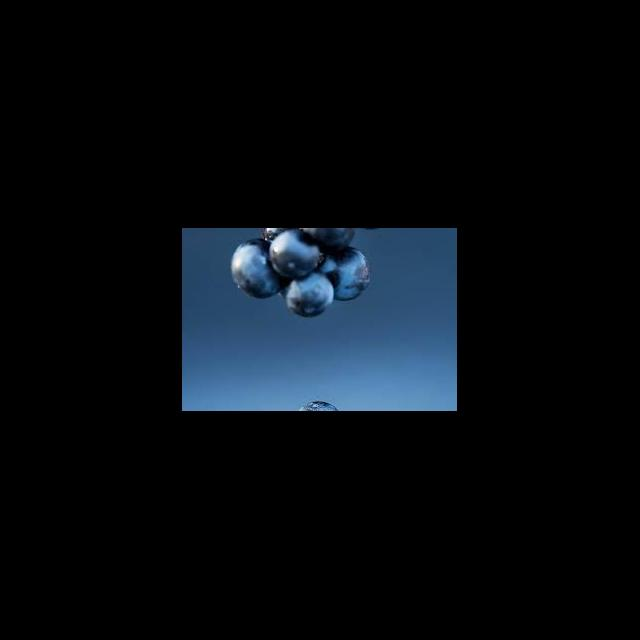grape: (230, 228, 376, 318)
